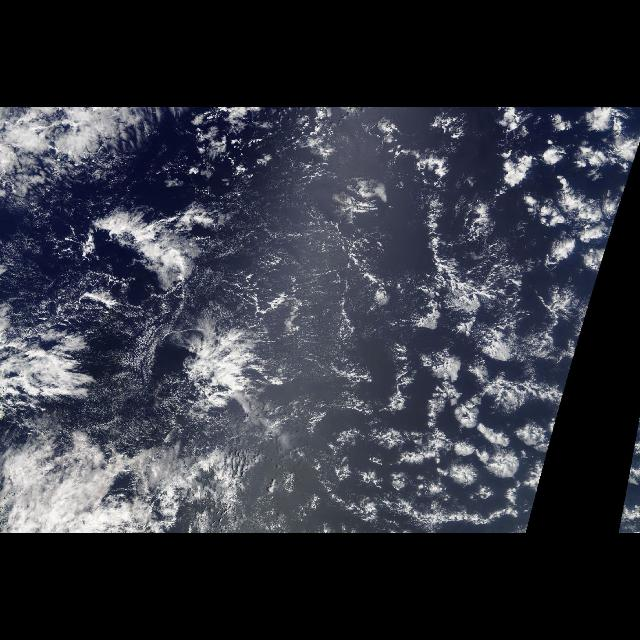Fish: (34, 108, 180, 176)
Flower: (344, 304, 590, 526), (482, 107, 640, 283)
Sugar: (89, 156, 365, 448)
